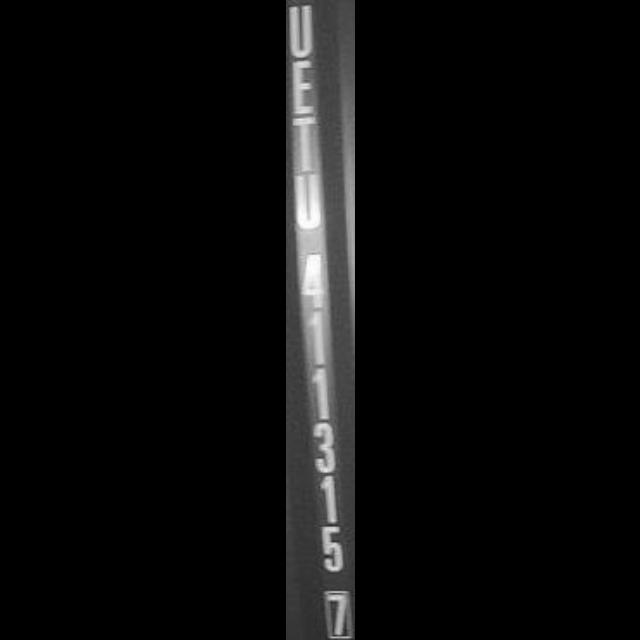1: (297, 306, 341, 369), (299, 365, 341, 423), (308, 476, 342, 526)
3: (300, 420, 344, 478)
4: (293, 245, 333, 311)
5: (307, 523, 347, 577)
7: (322, 586, 354, 638)
e: (285, 56, 319, 116)
t: (285, 117, 319, 171)
u: (286, 168, 330, 232), (285, 0, 319, 56)
